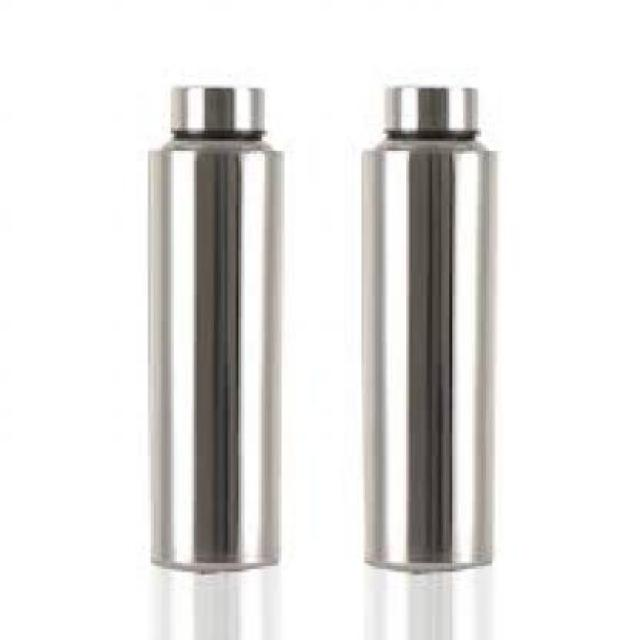Drinking: (131, 46, 295, 588), (350, 74, 504, 592)
